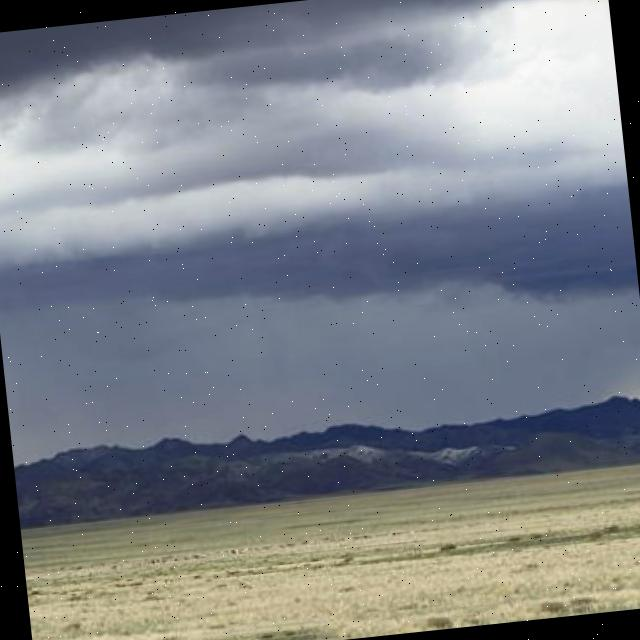Ns: (1, 1, 640, 367)
